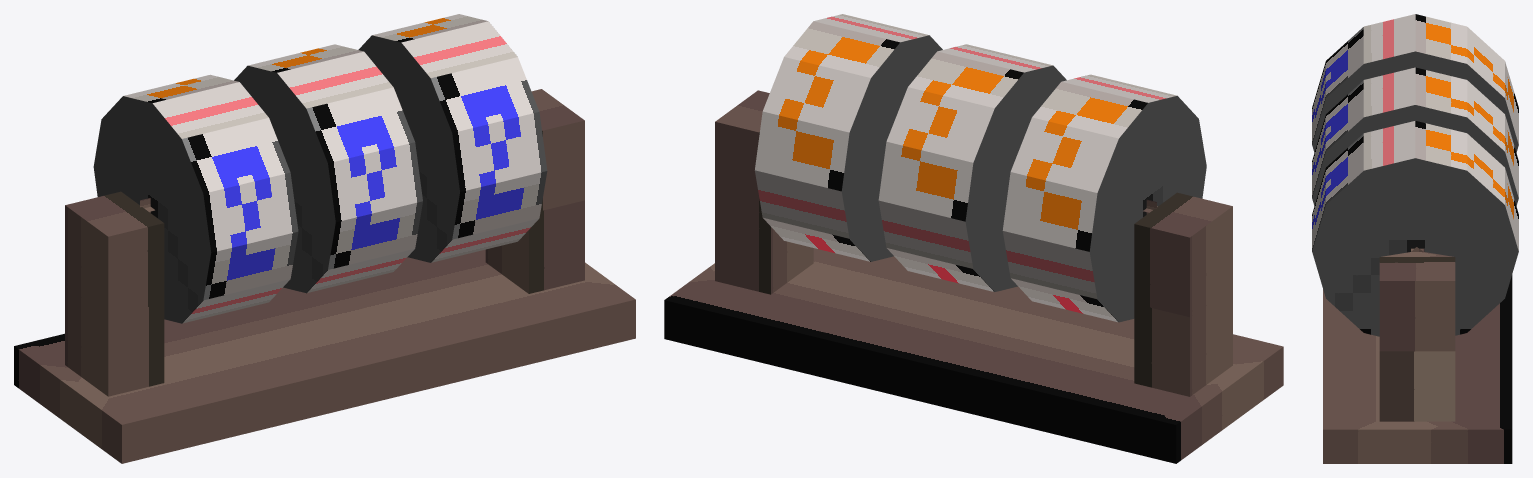
The model's file is triplesgame_818x00.gltf.
3 renders of one model, left to right at view 1: azimuth 30°, elevation 25°; view 2: azimuth 150°, elevation 25°; view 3: azimuth 270°, elevation 25°, orthographic. The views are drawn at different scales.
Parts seen in each view (by area): view 1: TriplesGame818x0; view 2: TriplesGame818x0; view 3: TriplesGame818x0.
Boxes of the visible parts, bbox=[...] form: TriplesGame818x0: bbox=[14, 14, 635, 463]; TriplesGame818x0: bbox=[664, 14, 1283, 463]; TriplesGame818x0: bbox=[1312, 14, 1518, 463].
Bounding box in the file's own units: 2.75 × 1.55 × 1.09.
Materials: 1 (1 with a texture image).
